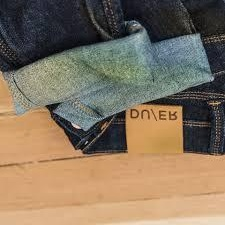earth: (97, 65, 144, 84)
